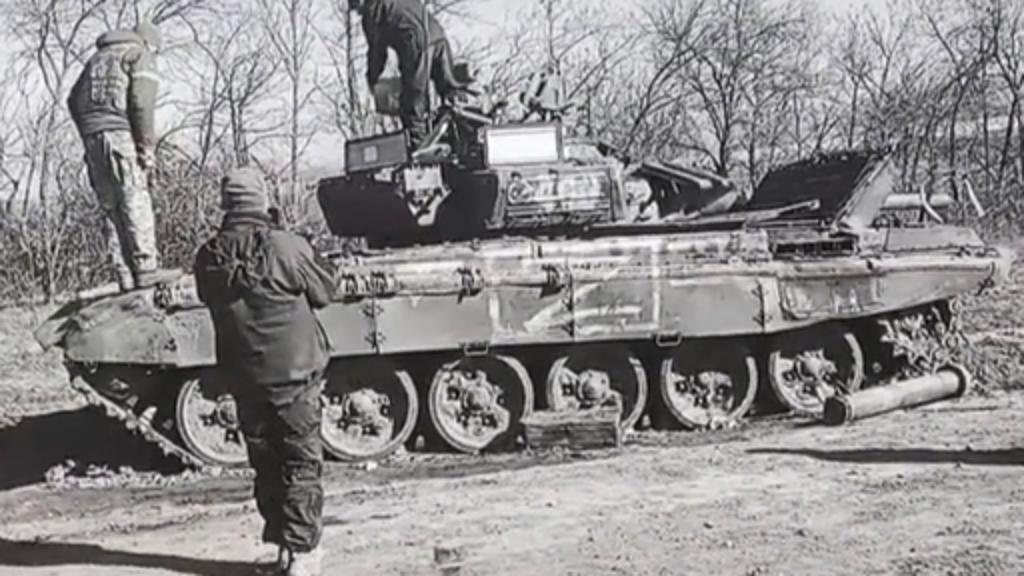TANK: (38, 90, 990, 494)
